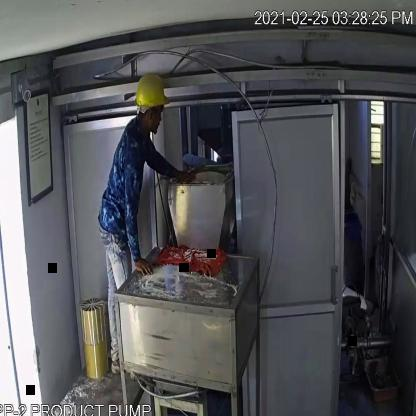helmet: (134, 66, 170, 121)
